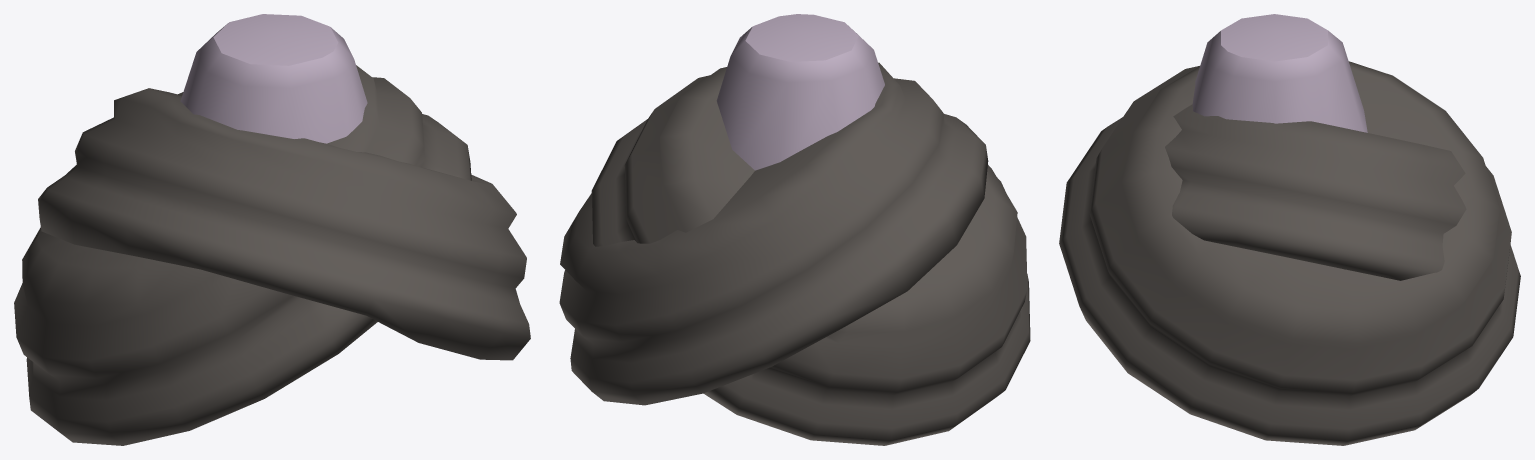
The model's file is Hat_107_03.fbx.
3 views of the same model, side by side, from view 1: azimuth 30°, elevation 25°; view 2: azimuth 150°, elevation 25°; view 3: azimuth 270°, elevation 25° (orthographic). The views are drawn at different scales.
Parts seen in each view (by area): view 1: Hat_107_03; view 2: Hat_107_03; view 3: Hat_107_03.
Boxes of the visible parts, x1=… form: Hat_107_03: x1=14, y1=14, x2=530, y2=445; Hat_107_03: x1=559, y1=14, x2=1030, y2=445; Hat_107_03: x1=1059, y1=14, x2=1520, y2=445.
Size of the model in its own units: 42.98 by 33.1 by 42.1.
